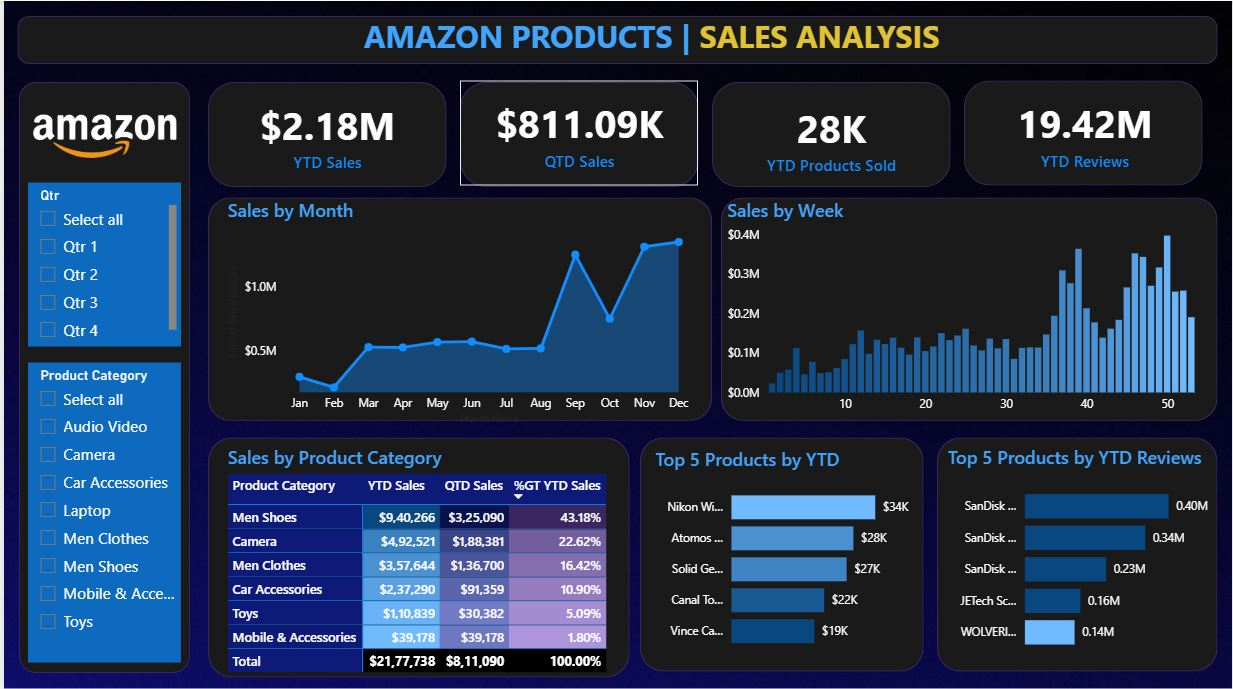

This screenshot's page, from the dashboard's own definition file:
{"tool":"powerbi","page":{"name":"Duplicate of Page 1","canvas":[1280,720],"ordinal":1},"visuals":[{"type":"shape","box":[15.6,84.4,178.2,615.8],"z":0},{"type":"shape","box":[14.1,15.6,1250.4,50],"z":1000},{"type":"textbox","box":[361.1,9.4,625.2,61],"z":2000},{"type":"shape","box":[212.6,84.4,248.5,109.4],"z":3000},{"type":"card","fields":{"Values":["Amazon_Data.YTD Sales"]},"box":[212.6,84.4,248.5,109.4],"z":4000},{"type":"shape","box":[737.7,84.4,248.5,109.4],"z":5000},{"type":"card","fields":{"Values":["Amazon_Data.YTD Products Sold"]},"box":[737.7,84.4,248.5,109.4],"z":6000},{"type":"shape","box":[475.1,84.4,248.5,109.4],"z":7000},{"type":"shape","box":[1000.3,82.8,248.5,109.4],"z":8000},{"type":"card","fields":{"Values":["Amazon_Data.YTD Reviews"]},"box":[1001.9,82.8,248.5,109.4],"z":9000},{"type":"card","fields":{"Values":["Amazon_Data.QTD Sales"]},"box":[475.1,82.8,248.5,109.4],"z":10000},{"type":"shape","box":[212.6,204.8,525.2,232.9],"z":11000},{"type":"areaChart","title":"Sales by Month","fields":{"Category":["Date Table.Month Name"],"Y":["Sum(Amazon_Data.Price(Dollar))"]},"box":[228.2,204.8,493.9,240.7],"z":12000},{"type":"shape","box":[747.1,204.8,517.3,232.9],"z":13000},{"type":"columnChart","title":"Sales by Week","fields":{"Category":["Date Table.Week"],"Y":["Sum(Amazon_Data.Price(Dollar))"]},"box":[748.7,204.8,517.3,232.9],"z":14000},{"type":"shape","box":[662.7,454.8,295.4,243.8],"z":15000},{"type":"shape","box":[212.6,454.8,439.2,250.1],"z":16000},{"type":"pivotTable","title":"Sales by Product Category","fields":{"Rows":["Amazon_Data.Product Category"],"Values":["Amazon_Data.YTD Sales1","Amazon_Data.QTD Sales","Amazon_Data.YTD Sales"]},"box":[228.2,462.6,445.5,257.9],"z":17000},{"type":"shape","box":[972.2,454.8,292.3,243.8],"z":18000},{"type":"clusteredBarChart","title":"Top 5 Products by YTD","fields":{"Category":["Amazon_Data.Product Description"],"Y":["Amazon_Data.YTD Sales"]},"box":[673.6,464.2,284.5,223.5],"z":19000},{"type":"clusteredBarChart","title":"Top 5 Products by YTD Reviews","fields":{"Category":["Amazon_Data.Product Description"],"Y":["Amazon_Data.YTD Reviews"]},"box":[978.4,462.6,286,226.6],"z":20000},{"type":"slicer","fields":{"Values":["Amazon_Data.Product Category"]},"box":[25,376.7,159.4,312.6],"z":21000},{"type":"slicer","fields":{"Values":["Date Table.Qtr"]},"box":[25,189.1,159.4,170.4],"z":22000},{"type":"image","box":[25,87.5,159.4,106.3],"z":22001}]}

Visuals, with their boxes in screenshot pixels (x1, y1, x2, y2), scaled from the page's 1280x720 canvas onto the 1233x689 screenshot:
shape: box(15, 81, 187, 670)
shape: box(14, 15, 1218, 63)
textbox: box(348, 9, 950, 67)
shape: box(205, 81, 444, 185)
card - Amazon_Data.YTD Sales: box(205, 81, 444, 185)
shape: box(711, 81, 950, 185)
card - Amazon_Data.YTD Products Sold: box(711, 81, 950, 185)
shape: box(458, 81, 697, 185)
shape: box(964, 79, 1203, 184)
card - Amazon_Data.YTD Reviews: box(965, 79, 1204, 184)
card - Amazon_Data.QTD Sales: box(458, 79, 697, 184)
shape: box(205, 196, 711, 419)
"Sales by Month" areaChart: box(220, 196, 696, 426)
shape: box(720, 196, 1218, 419)
"Sales by Week" columnChart: box(721, 196, 1220, 419)
shape: box(638, 435, 923, 669)
shape: box(205, 435, 628, 675)
"Sales by Product Category" pivotTable: box(220, 443, 649, 688)
shape: box(937, 435, 1218, 669)
"Top 5 Products by YTD" clusteredBarChart: box(649, 444, 923, 658)
"Top 5 Products by YTD Reviews" clusteredBarChart: box(942, 443, 1218, 660)
slicer - Amazon_Data.Product Category: box(24, 360, 178, 660)
slicer - Date Table.Qtr: box(24, 181, 178, 344)
image: box(24, 84, 178, 185)
